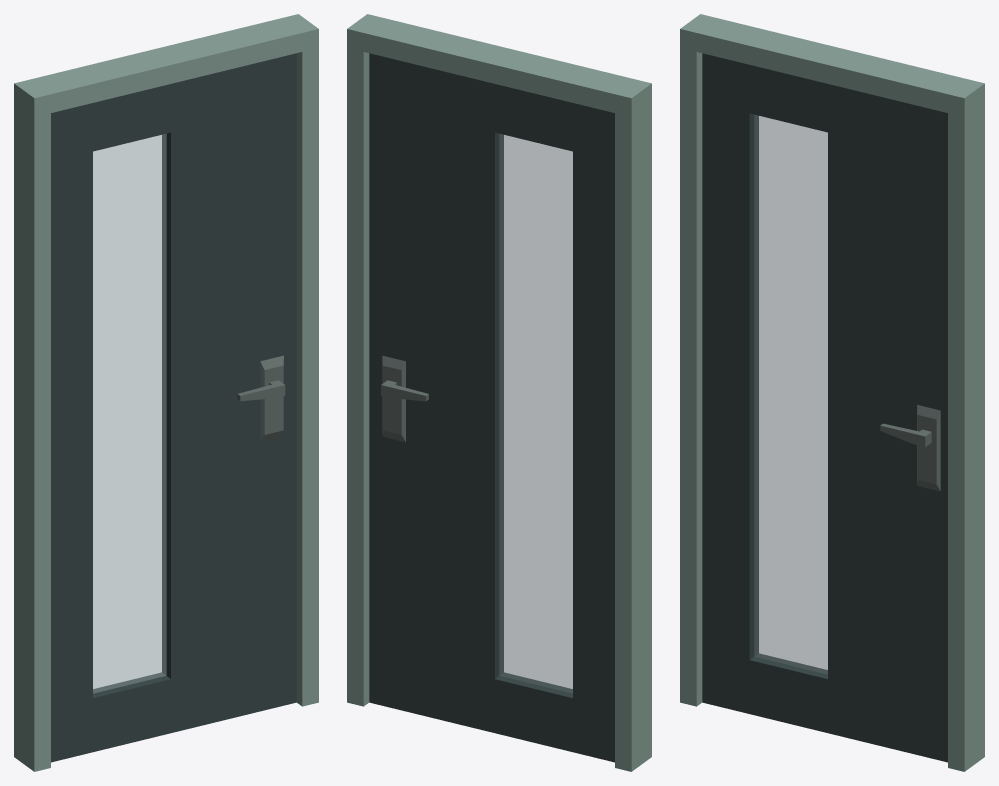
The model's file is entrance_door.glb.
3 renders of one model, left to right at view 1: azimuth 30°, elevation 25°; view 2: azimuth 150°, elevation 25°; view 3: azimuth 330°, elevation 25°, orthographic.
Parts seen in each view (by area): view 1: door, doorwayFront(Clone); view 2: door, doorwayFront(Clone); view 3: door, doorwayFront(Clone).
Boxes of the visible parts, x1,y1,x2,y2 form: door: (51, 53, 296, 762); doorwayFront(Clone): (14, 14, 318, 771); door: (369, 53, 614, 762); doorwayFront(Clone): (347, 14, 651, 771); door: (702, 53, 947, 762); doorwayFront(Clone): (680, 14, 984, 771).
Bounding box in the file's own units: 0.95 × 2.15 × 0.15.
